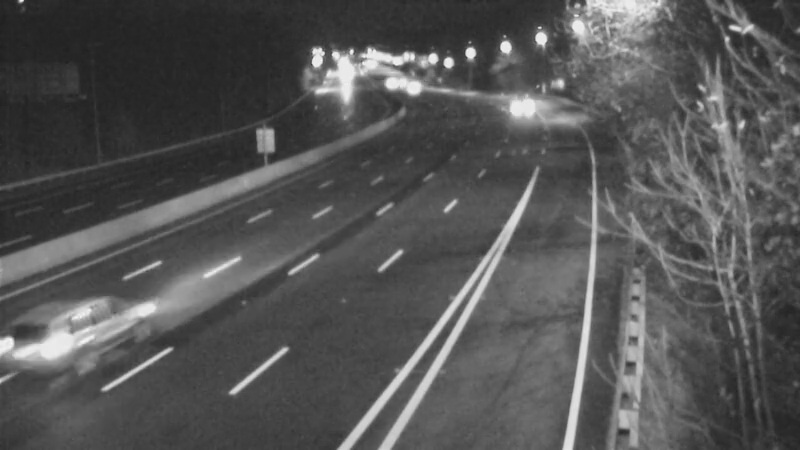vehicle: (32, 280, 142, 390), (362, 59, 412, 109), (385, 62, 435, 112), (488, 86, 538, 136)
